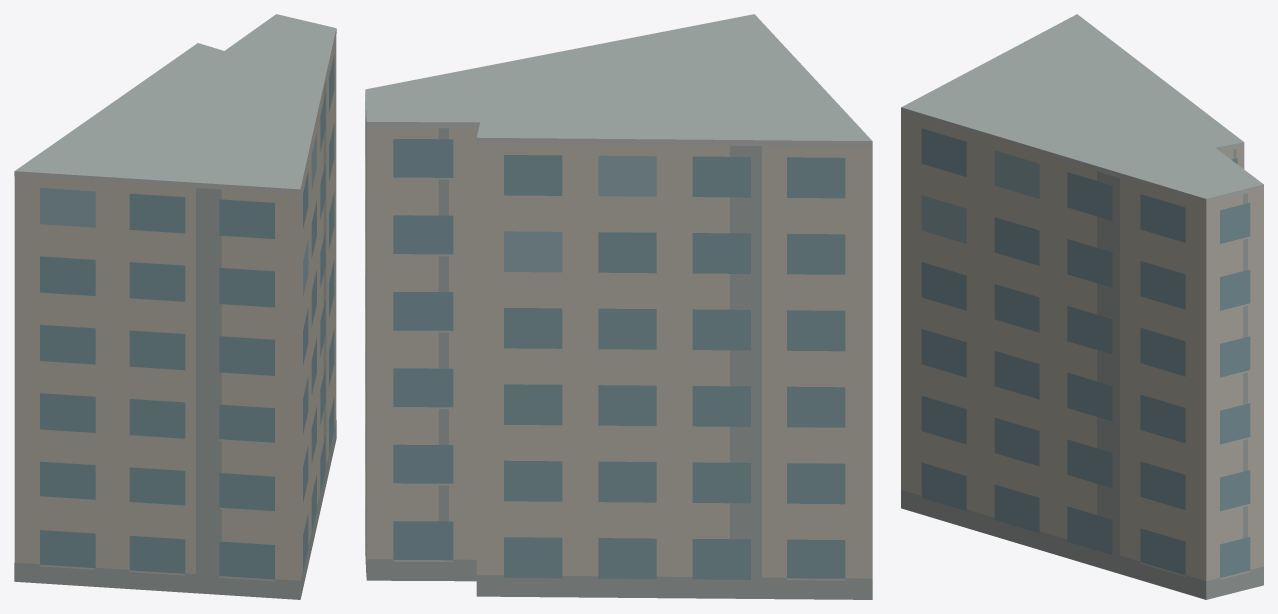
Rendered from survey-upis-33039982.glb.
3 renders of one model, left to right at view 1: azimuth 30°, elevation 25°; view 2: azimuth 150°, elevation 25°; view 3: azimuth 270°, elevation 25°, orthographic. The views are drawn at different scales.
Parts seen in each view (by area): view 1: survey-upis-33039982.tmp; view 2: survey-upis-33039982.tmp; view 3: survey-upis-33039982.tmp.
Part boxes in pixels (x1,y1,x2,y2): survey-upis-33039982.tmp: (14, 14, 336, 599); survey-upis-33039982.tmp: (365, 14, 872, 599); survey-upis-33039982.tmp: (901, 14, 1263, 599).
Bounding box in the file's own units: 18.7 × 18.9 × 15.5.
